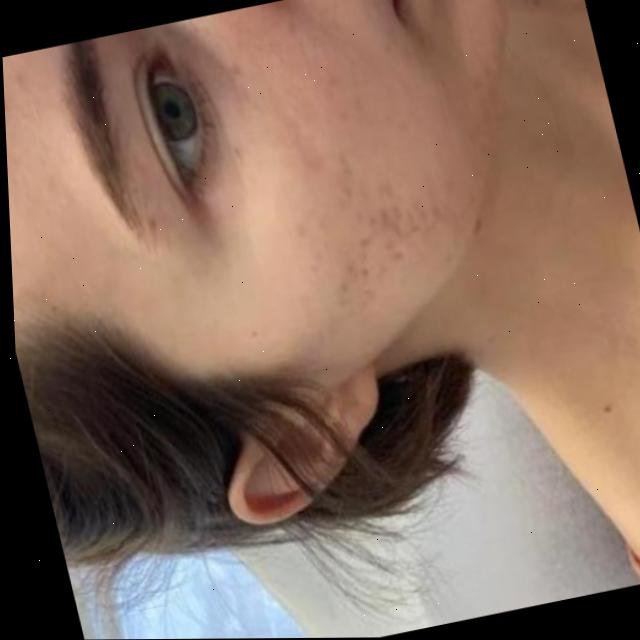Acne: (237, 146, 455, 341)
